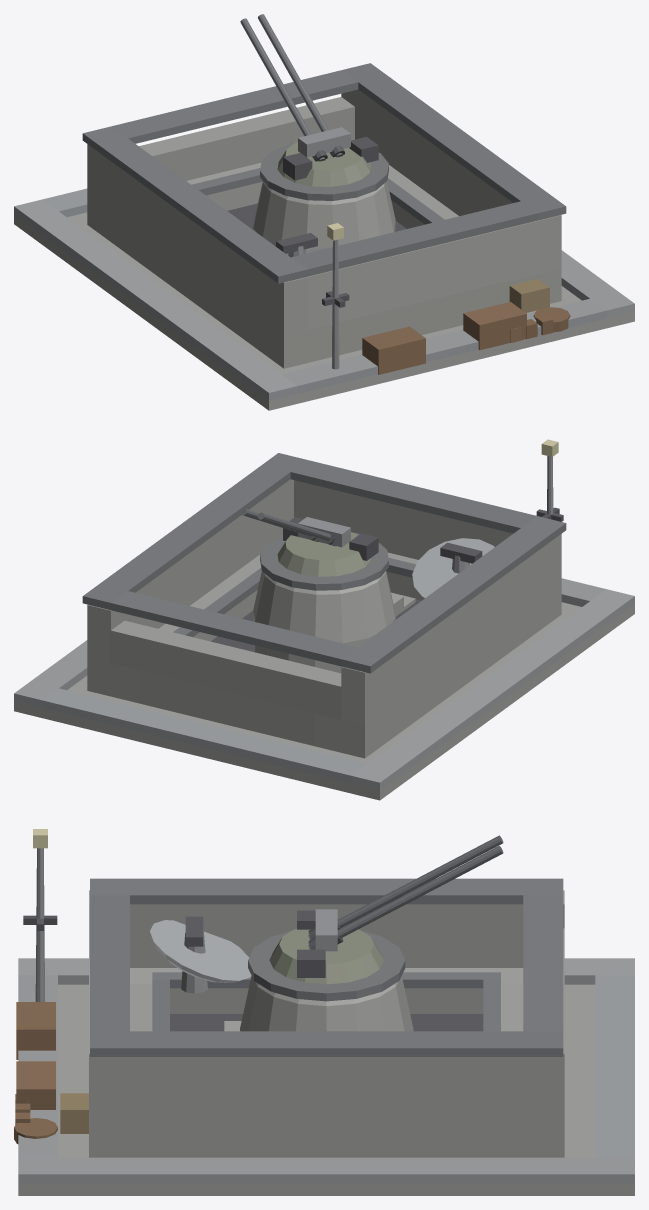
File: soviet_aa.glb
The picture shows the model from 3 angles, top to bottom: view 1: azimuth 30°, elevation 25°; view 2: azimuth 150°, elevation 25°; view 3: azimuth 270°, elevation 25°; orthographic projection. The views are drawn at different scales.
Parts seen in each view (by area): view 1: revetment, revetment_cap, apron_rim, platform, apron, barbette, lockers, turret, barrel, platform_cap, mast, crates (+1 smaller); view 2: revetment, revetment_cap, apron_rim, platform, barbette, apron, turret, radar, platform_cap, barrel, mast; view 3: revetment, revetment_cap, apron_rim, platform, apron, barbette, turret, radar, lockers, platform_cap, barrel, pit (+3 smaller).
Boxes of the visible parts, <box> form: revetment: <box>87,89,561,335</box>; revetment_cap: <box>82,63,566,283</box>; apron_rim: <box>14,188,634,400</box>; platform: <box>87,163,561,368</box>; apron: <box>14,212,634,410</box>; barbette: <box>253,143,395,249</box>; lockers: <box>362,302,553,374</box>; turret: <box>277,127,378,186</box>; barrel: <box>240,14,344,161</box>; platform_cap: <box>191,168,444,224</box>; mast: <box>322,223,349,369</box>; crates: <box>509,279,549,312</box>; revetment: <box>87,479,561,725</box>; revetment_cap: <box>82,453,566,673</box>; apron_rim: <box>14,578,634,790</box>; platform: <box>87,552,561,758</box>; barbette: <box>253,532,395,673</box>; apron: <box>14,602,634,800</box>; turret: <box>277,517,378,576</box>; radar: <box>412,538,494,597</box>; platform_cap: <box>173,558,415,636</box>; barrel: <box>240,508,335,546</box>; mast: <box>536,439,563,521</box>; revetment: <box>89,890,564,1117</box>; revetment_cap: <box>90,878,563,1056</box>; apron_rim: <box>18,958,634,1183</box>; platform: <box>89,968,564,1157</box>; apron: <box>18,984,634,1195</box>; barbette: <box>240,931,413,1031</box>; turret: <box>269,909,383,984</box>; radar: <box>150,916,251,993</box>; lockers: <box>15,1002,55,1124</box>; platform_cap: <box>152,972,500,1031</box>; barrel: <box>308,835,503,949</box>; pit: <box>170,1014,483,1031</box>.
Size of the model in its own units: 11.6 by 6.18 by 14.1.
